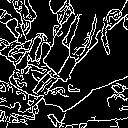cube: (42, 40, 79, 85)
